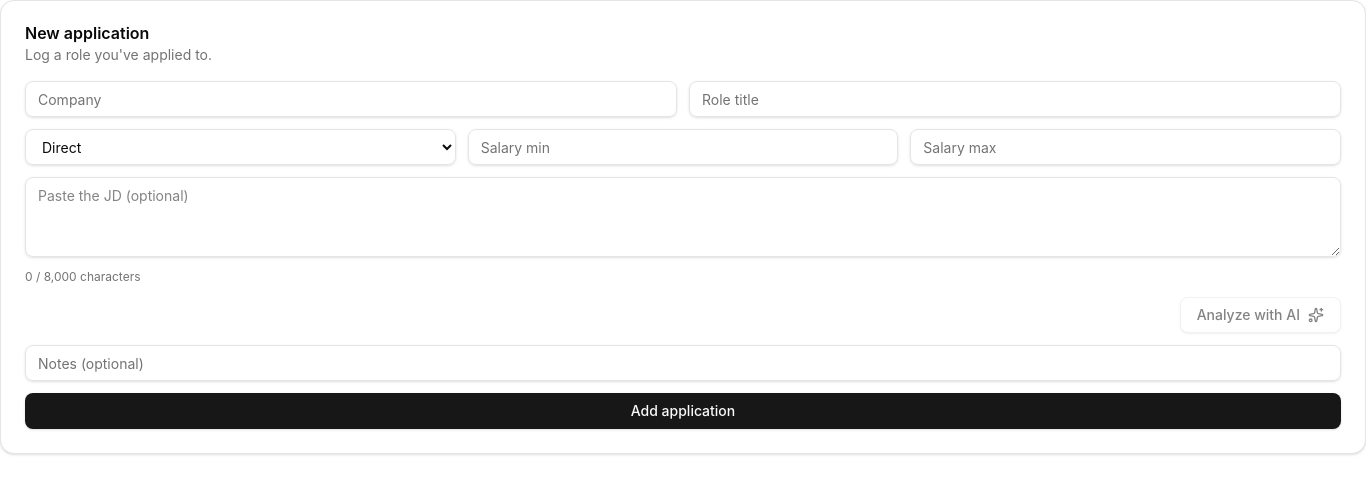
Test case: ApplicationForm › shows a validation error and does not submit when company and role title are blank
Click the button "Add application" at [683, 411], box [25, 393, 1341, 429]
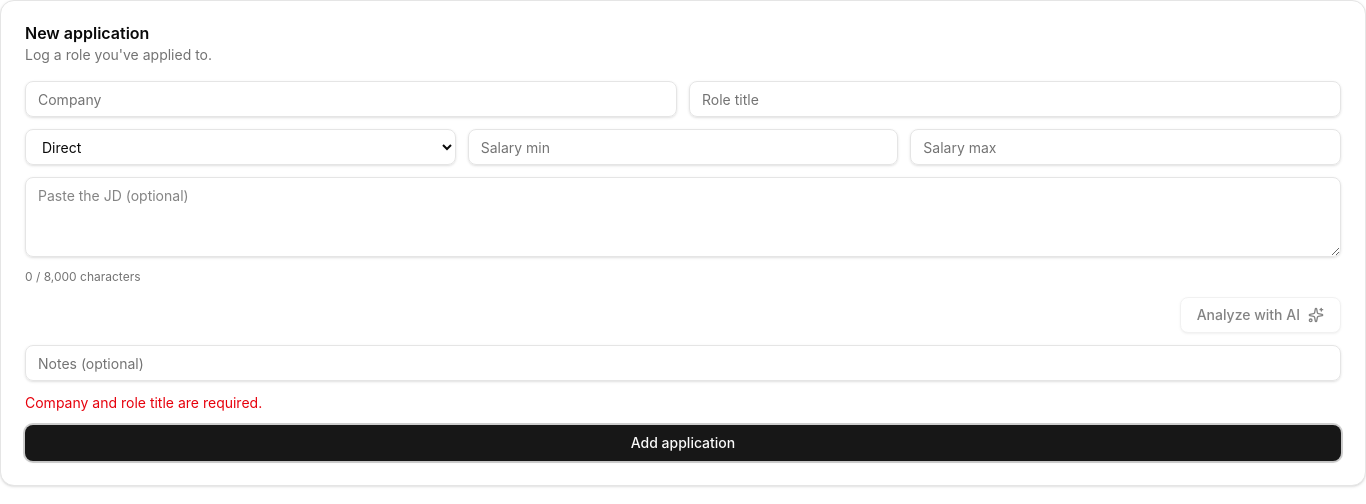
Now the text "Company and role title are required." is shown, box [25, 394, 262, 411]
